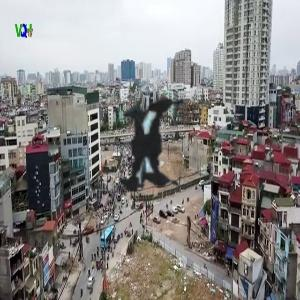drone: (3, 4, 295, 296)
